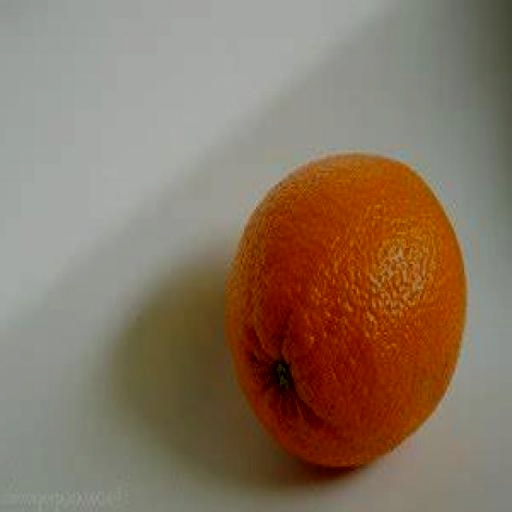fruit: (226, 155, 464, 466)
